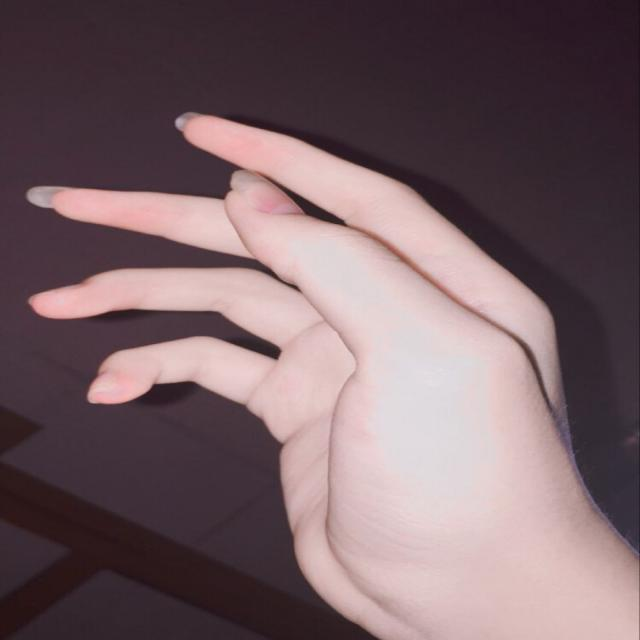bare_hand: (25, 110, 634, 638)
